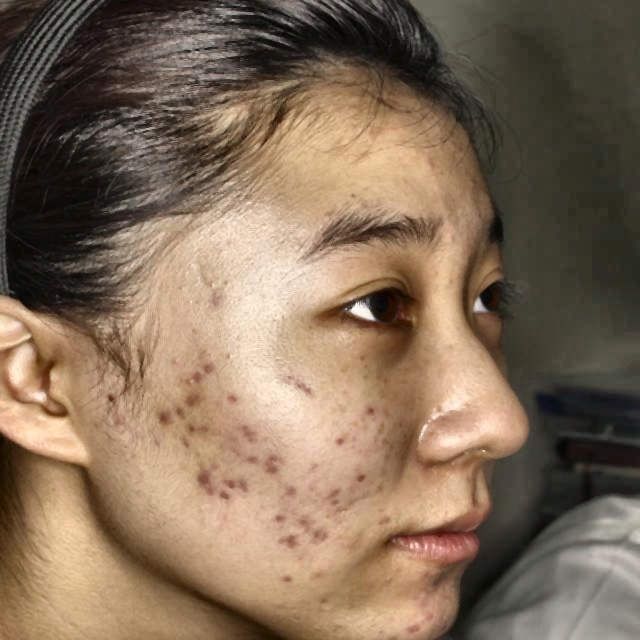pustule: (177, 376, 221, 416), (304, 519, 338, 550), (273, 530, 308, 558), (257, 451, 283, 486), (147, 397, 180, 424), (218, 472, 243, 505), (199, 458, 210, 498)
